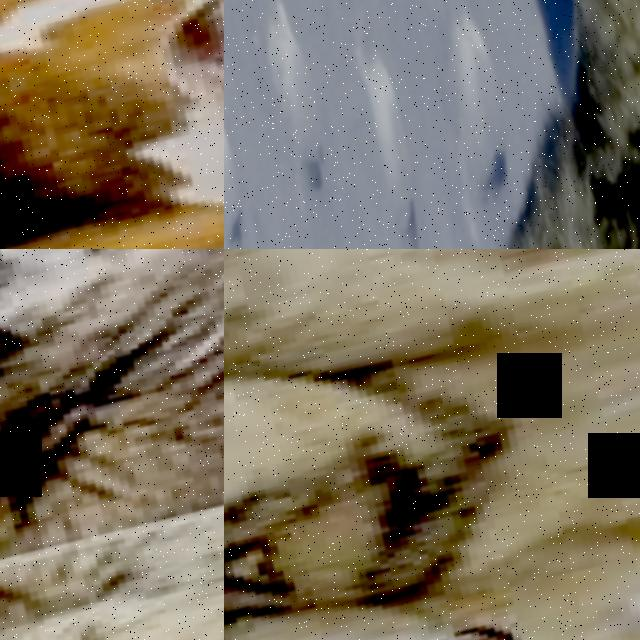dog: (0, 0, 224, 249)
wolf: (224, 249, 640, 640), (224, 0, 640, 249), (224, 249, 640, 491), (0, 249, 224, 589), (224, 488, 640, 640), (0, 455, 224, 640)
